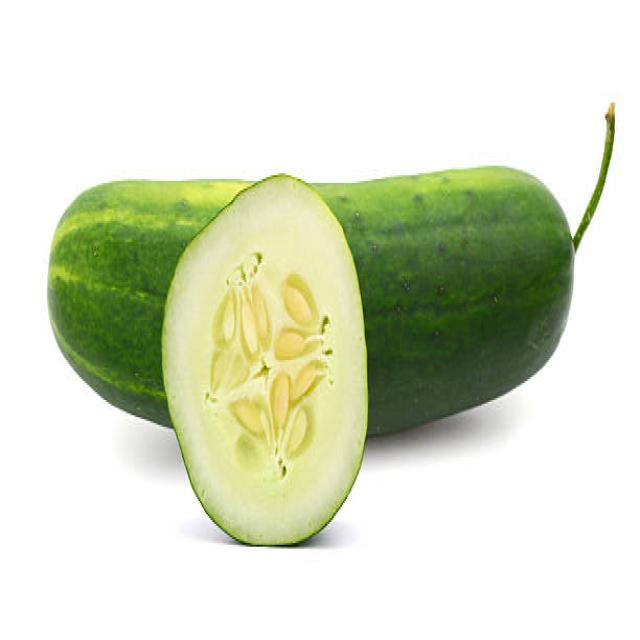cucumber: (46, 161, 576, 438)
